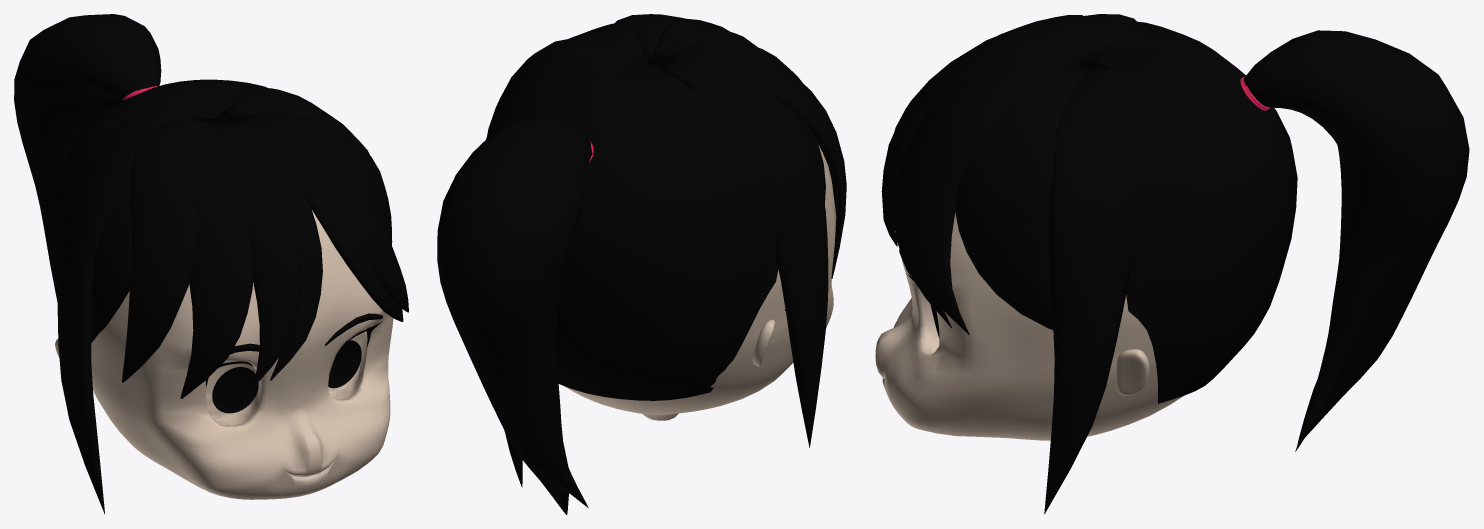
File: Head.fbx
3 views of the same model, side by side, from view 1: azimuth 30°, elevation 25°; view 2: azimuth 150°, elevation 25°; view 3: azimuth 270°, elevation 25° (orthographic). The views are drawn at different scales.
Visible parts, largest first — view 1: Head; view 2: Head; view 3: Head.
Boxes of the visible parts, x1=… form: Head: x1=14, y1=14, x2=408, y2=514; Head: x1=437, y1=14, x2=846, y2=514; Head: x1=875, y1=14, x2=1469, y2=514.
Size of the model in its own units: 84.92 by 97.85 by 127.
